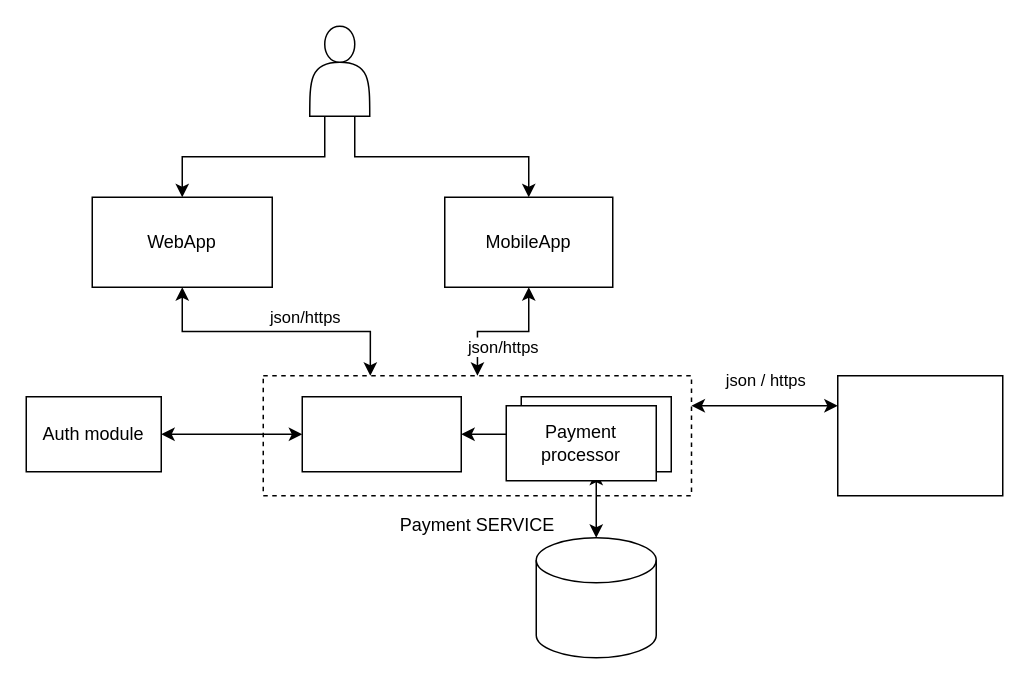
Image size: 1029x684. Some labels were removed from this diagram. Each missing label, with the centre of its shape:
Pay Cloud Services: the point at 919,435
Pay Controller: the point at 381,433
Transsactions DB: the point at 595,597
